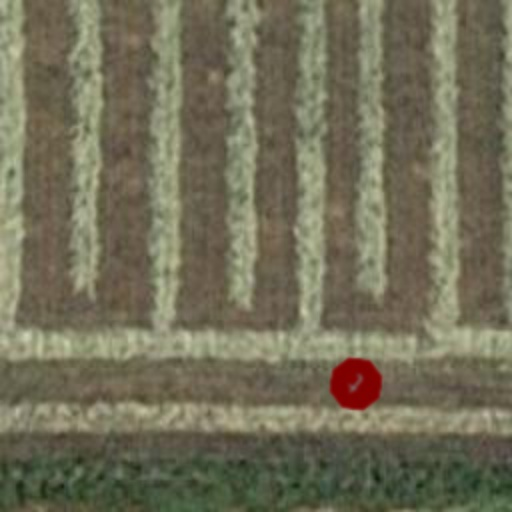octagon: (316, 344, 396, 424)
